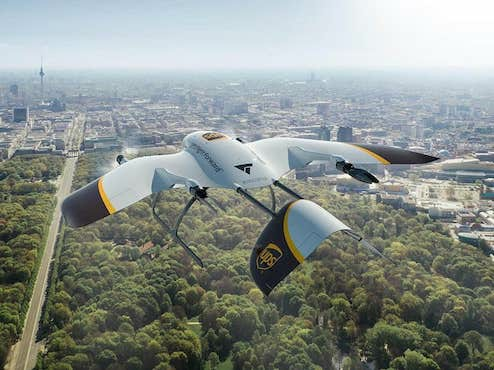maybay_khongnguoilai: (65, 123, 436, 277)
